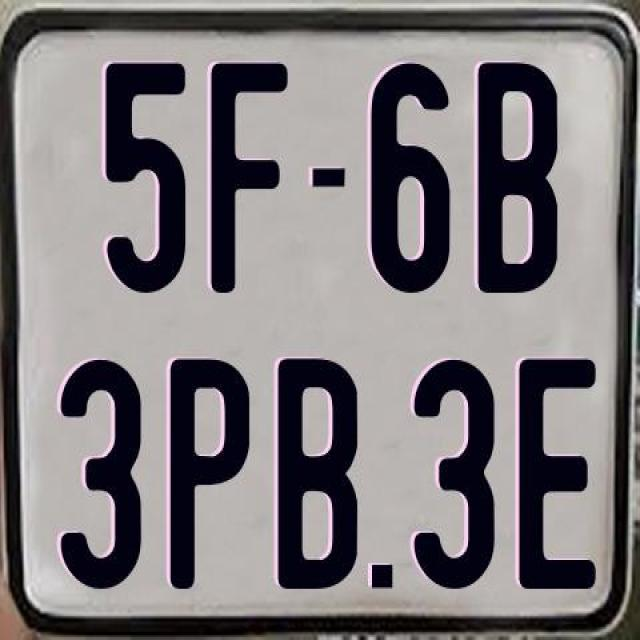3: (414, 355, 500, 584), (60, 355, 144, 584)
5: (102, 61, 184, 292)
6: (371, 61, 458, 300)
B: (477, 58, 564, 298), (276, 357, 358, 590)
E: (518, 356, 600, 594)
F: (210, 59, 290, 299)
P: (169, 354, 248, 588)
